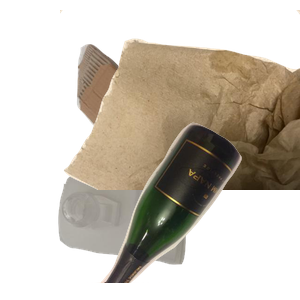cardboard: (74, 42, 225, 170)
glass: (87, 120, 300, 300)
plastic: (56, 166, 241, 300)
trash: (60, 10, 300, 190)
